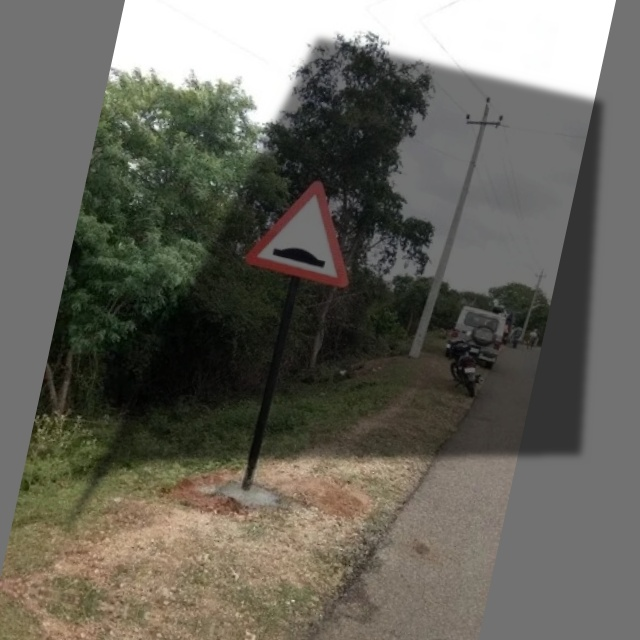Hump_or_Rough_Road: (234, 164, 372, 300)
